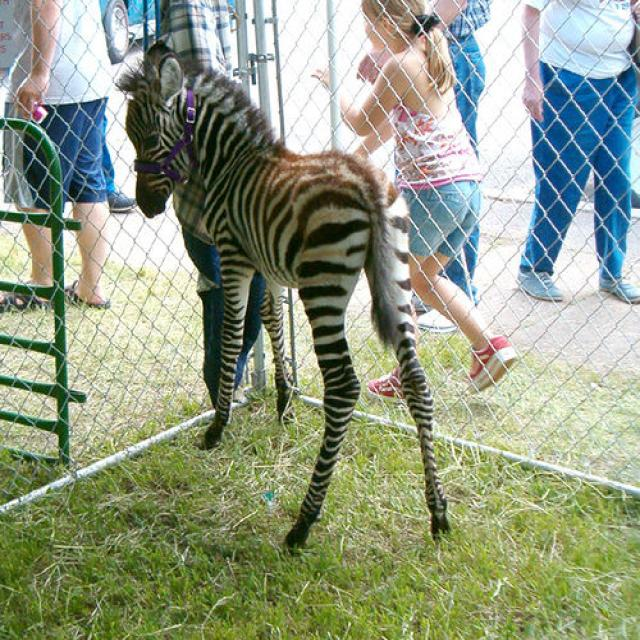Vehicle: (100, 1, 159, 64)
